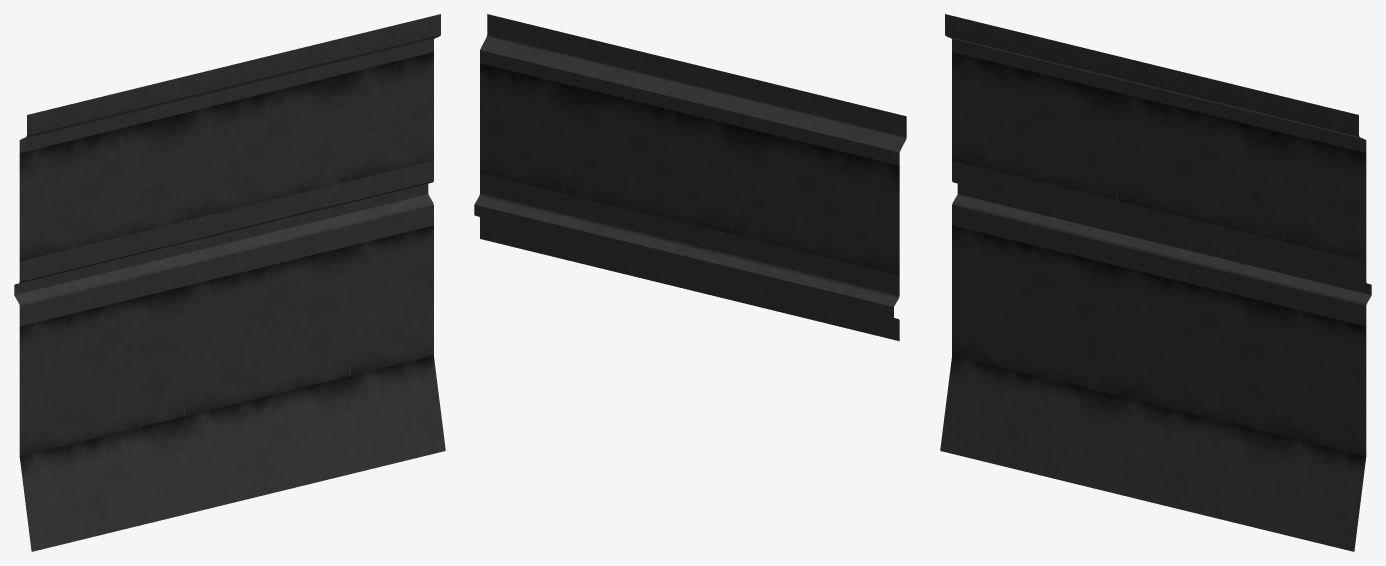
The model's file is M_Wall_Straight_10x10_v4.fbx.
3 renders of one model, left to right at view 1: azimuth 30°, elevation 25°; view 2: azimuth 150°, elevation 25°; view 3: azimuth 330°, elevation 25°, orthographic.
Visible parts, largest first — view 1: Wall_Straight_10x10_v4; view 2: Wall_Straight_10x10_v4; view 3: Wall_Straight_10x10_v4.
Boxes of the visible parts, x1,y1,x2,y2 form: Wall_Straight_10x10_v4: (14,14,445,551); Wall_Straight_10x10_v4: (474,14,906,341); Wall_Straight_10x10_v4: (940,14,1371,551).
Size of the model in its own units: 1000 by 1000 by 73.02.
